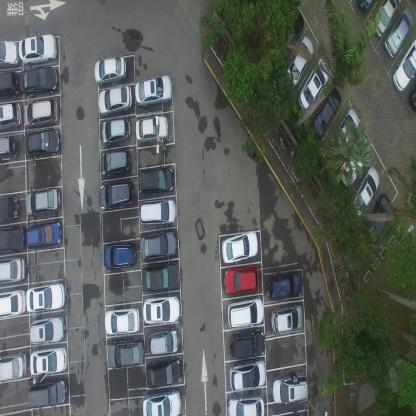car: (310, 85, 343, 139), (298, 57, 330, 112), (284, 32, 314, 90), (338, 135, 370, 189), (384, 7, 414, 62), (364, 192, 392, 248), (331, 105, 359, 158), (350, 165, 380, 214), (274, 5, 304, 54), (392, 37, 416, 94), (27, 376, 67, 410), (20, 31, 58, 66), (19, 64, 59, 97), (141, 224, 176, 260), (230, 359, 267, 393), (29, 345, 68, 377), (23, 127, 63, 158), (146, 356, 182, 390), (272, 370, 308, 404), (135, 73, 172, 106), (141, 262, 179, 294), (107, 338, 145, 370), (372, 0, 402, 40), (26, 217, 62, 250), (24, 96, 60, 129), (226, 296, 263, 328), (26, 280, 65, 310), (103, 235, 137, 269), (98, 82, 132, 116), (222, 228, 258, 260), (98, 178, 134, 210), (141, 195, 177, 226), (229, 329, 266, 359), (138, 164, 175, 194), (25, 186, 62, 216), (143, 294, 179, 324), (104, 306, 140, 336), (142, 388, 181, 415), (100, 143, 130, 178), (223, 263, 259, 292), (266, 272, 300, 302), (93, 55, 127, 85), (270, 305, 303, 335), (148, 327, 180, 357), (135, 114, 168, 143), (0, 350, 27, 384), (102, 113, 130, 145), (0, 288, 27, 320), (226, 394, 264, 416), (0, 224, 27, 254), (0, 256, 25, 286), (0, 102, 22, 131), (0, 192, 20, 221), (0, 69, 20, 98), (0, 38, 19, 67), (0, 134, 18, 163), (357, 0, 376, 15), (408, 83, 416, 113)
